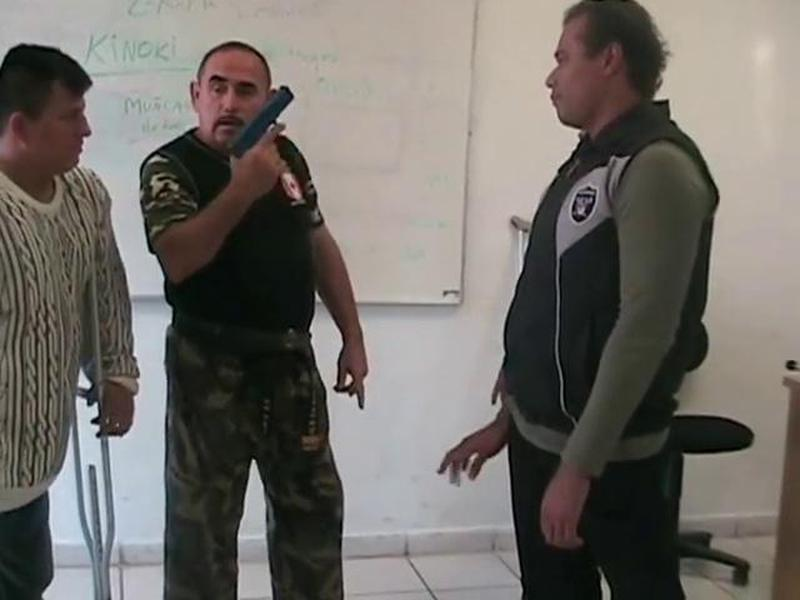Pistola: (212, 80, 312, 194)
